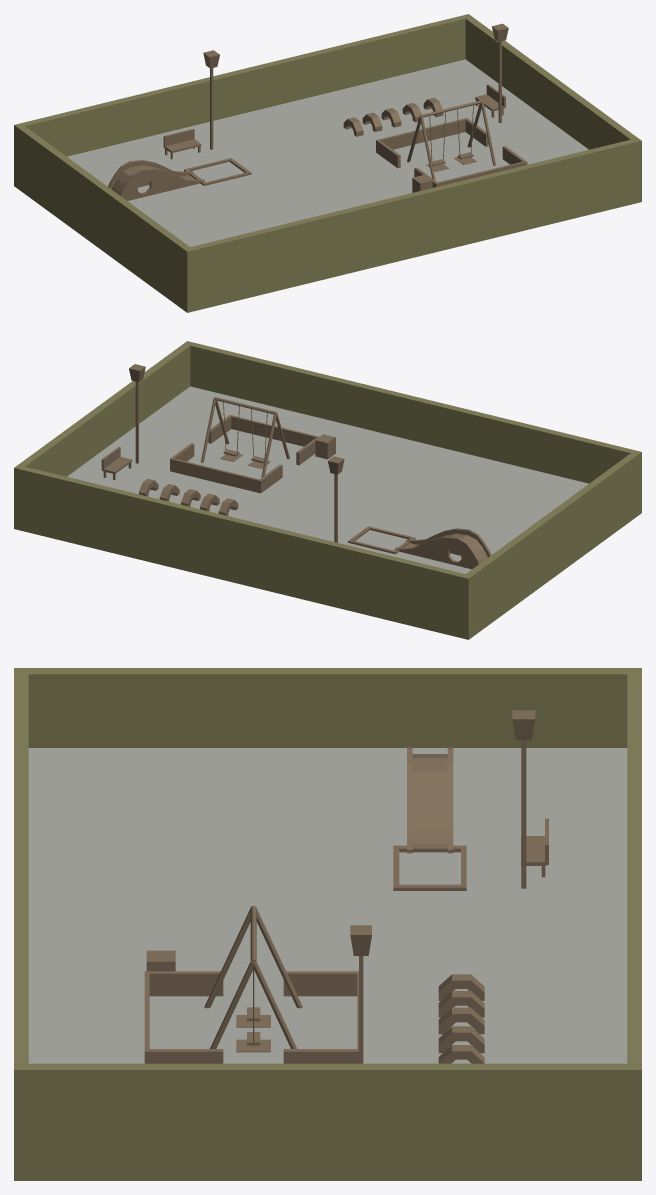
The model's file is playground.fbx.
The picture shows the model from 3 angles, top to bottom: view 1: azimuth 30°, elevation 25°; view 2: azimuth 150°, elevation 25°; view 3: azimuth 270°, elevation 25°; orthographic projection. The views are drawn at different scales.
Parts seen in each view (by area): view 1: pPlane395, pPlane108, pCube416, polySurface311, pCube415, polySurface312, polySurface314; view 2: pPlane395, pPlane108, pCube416, pCube415, polySurface312, polySurface311, polySurface314, pCube433; view 3: pPlane108, pPlane395, pCube415, polySurface313, pCube416, polySurface314, pCube440, pCylinder103, pCylinder104, pCylinder101, pCylinder105, polySurface312.
Part boxes in pixels (x1,y1,x2,y2): pPlane395: (14,14,641,312); pPlane108: (67,59,588,246); pCube416: (376,118,488,168); polySurface311: (119,168,204,200); pCube415: (414,146,527,187); polySurface312: (108,160,193,188); polySurface314: (184,158,251,185); pPlane395: (14,341,641,639); pPlane108: (67,386,588,573); pCube416: (170,443,282,493); pCube415: (208,415,319,465); polySurface312: (394,536,480,569); polySurface311: (405,528,491,557); polySurface314: (348,526,415,554); pCube433: (315,434,335,459); pPlane108: (28,748,627,1063); pPlane395: (14,668,641,1180); pCube415: (144,971,223,1063); polySurface313: (412,754,447,845); pCube416: (283,971,358,1063); polySurface314: (393,845,466,890); pCube440: (521,740,526,888); pCylinder103: (438,1007,484,1034); pCylinder104: (438,1026,484,1053); pCylinder101: (438,974,484,1000); pCylinder105: (438,991,484,1017); polySurface312: (447,746,453,853).
Bounding box in the file's own units: 30.97 × 7.55 × 20.45.
